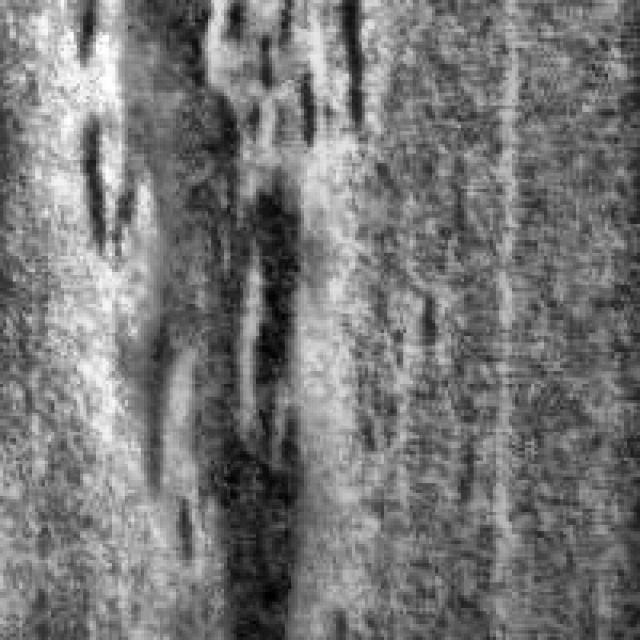Patches: (67, 0, 316, 630), (323, 0, 374, 150)
